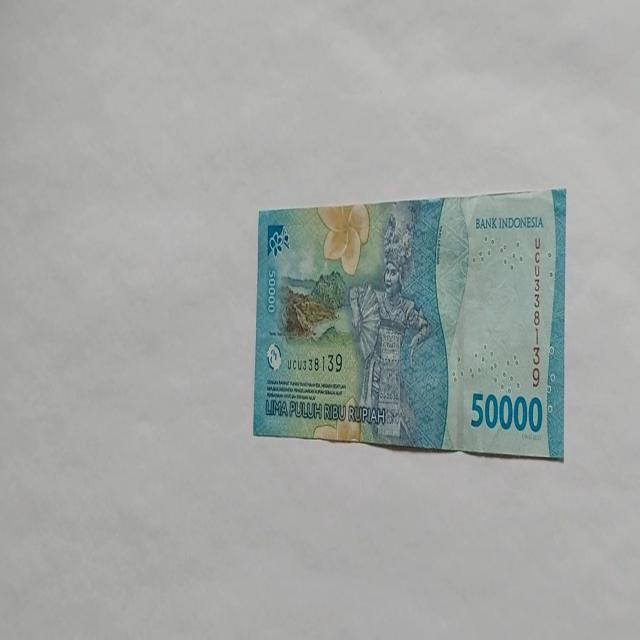lima puluh ribu rupiah: (252, 186, 566, 462)
